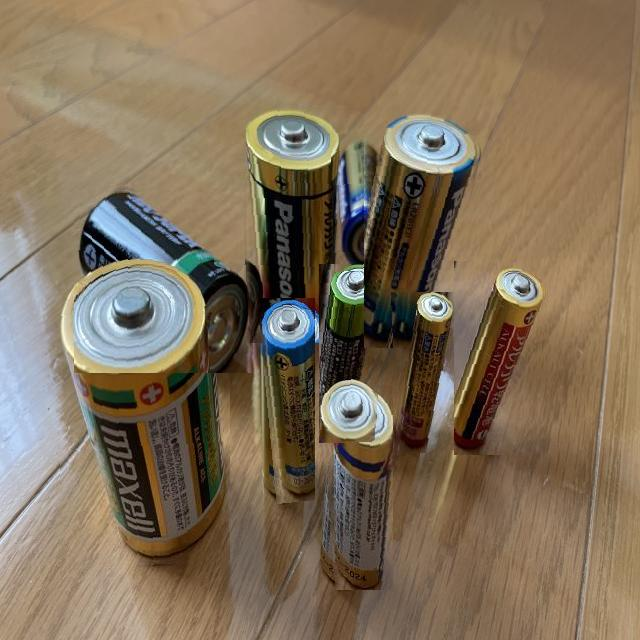battery: (58, 248, 230, 570), (74, 182, 256, 373), (364, 108, 484, 348), (236, 104, 348, 343), (454, 262, 548, 456), (317, 379, 393, 590), (319, 264, 389, 444), (257, 298, 315, 504), (391, 292, 456, 455), (330, 134, 390, 272)
